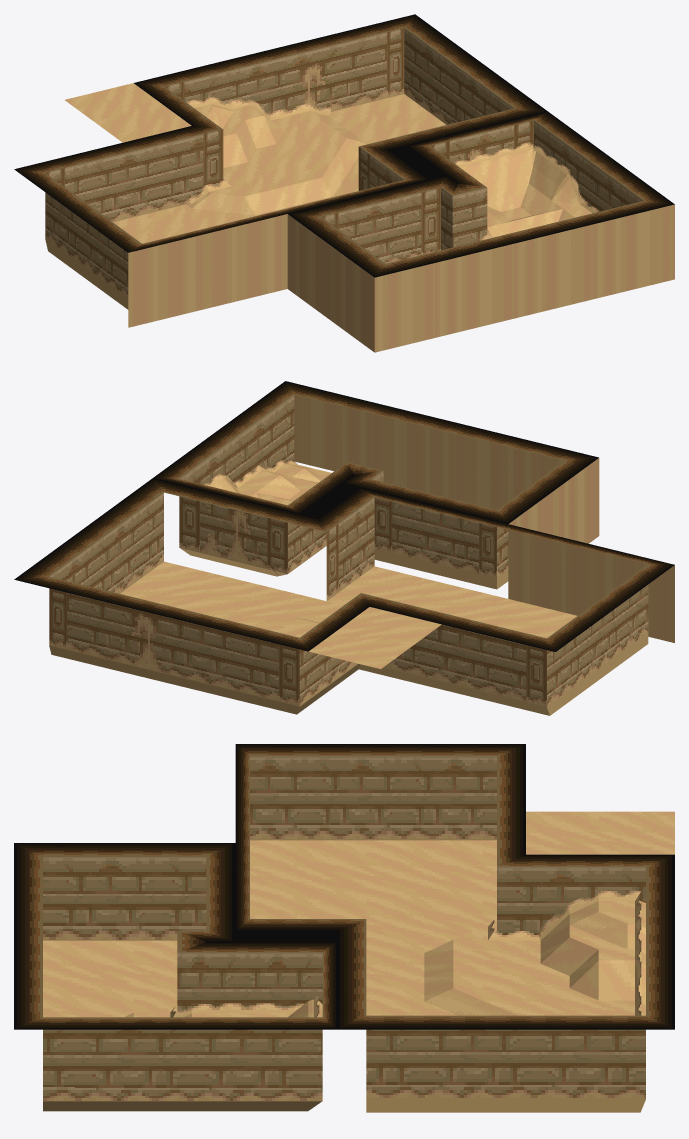
The picture shows the model from 3 angles, top to bottom: view 1: azimuth 30°, elevation 25°; view 2: azimuth 150°, elevation 25°; view 3: azimuth 270°, elevation 25°; orthographic projection. The views are drawn at different scales.
Parts seen in each view (by area): view 1: polygon1, polygon2, polygon3, polygon4, polygon5, polygon0; view 2: polygon1, polygon2, polygon3, polygon4, polygon5, polygon0; view 3: polygon2, polygon1, polygon3, polygon0.
Boxes of the visible parts, x1=… form: polygon1: x1=65, y1=83, x2=674, y2=352; polygon2: x1=45, y1=28, x2=643, y2=309; polygon3: x1=14, y1=14, x2=674, y2=277; polygon4: x1=45, y1=28, x2=533, y2=254; polygon5: x1=285, y1=42, x2=513, y2=162; polygon0: x1=186, y1=96, x2=598, y2=243; polygon1: x1=120, y1=395, x2=674, y2=668; polygon2: x1=49, y1=395, x2=648, y2=715; polygon3: x1=14, y1=381, x2=674, y2=651; polygon4: x1=49, y1=496, x2=546, y2=707; polygon5: x1=109, y1=501, x2=267, y2=675; polygon0: x1=204, y1=460, x2=297, y2=487; polygon2: x1=43, y1=756, x2=645, y2=1112; polygon1: x1=43, y1=811, x2=674, y2=1017; polygon3: x1=14, y1=744, x2=674, y2=1029; polygon0: x1=170, y1=890, x2=641, y2=1017.
Bounding box in the file's own units: 11.62 × 1.84 × 11.38.
6 materials, 6 textured.
